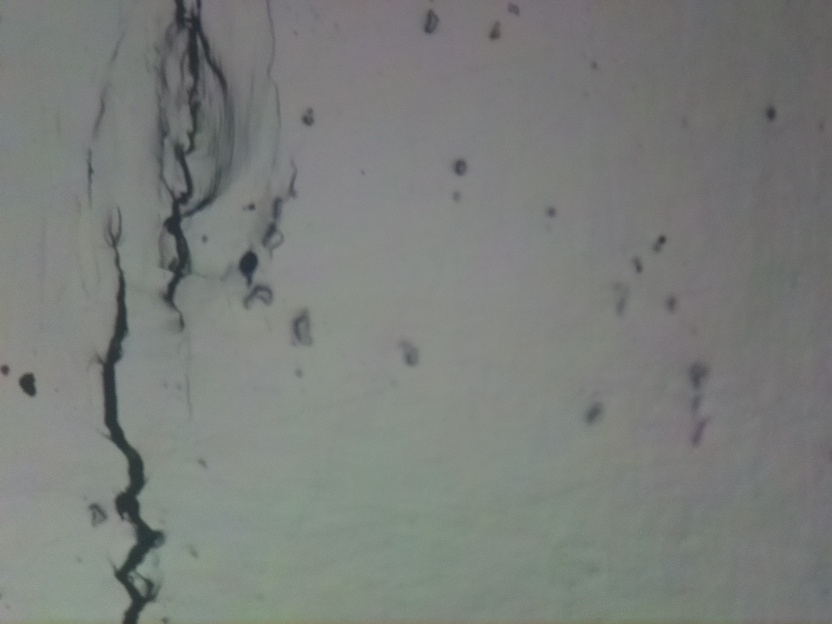crack: (96, 214, 169, 624), (157, 0, 234, 317)
